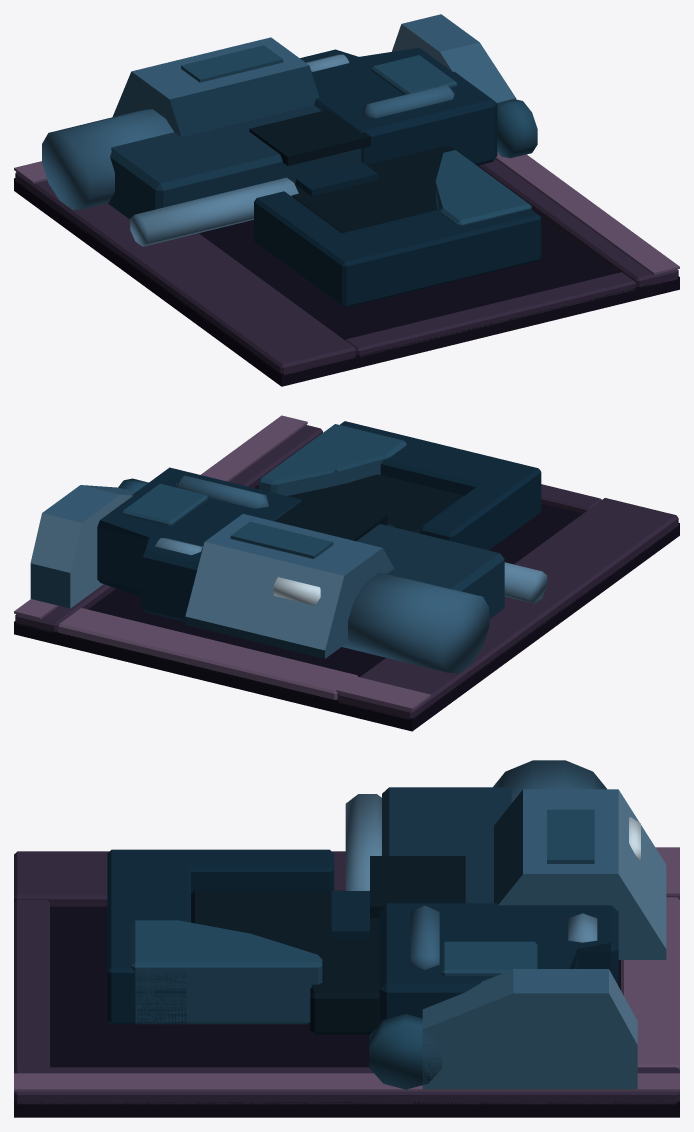
The model's file is newshc-241.glb.
The picture shows the model from 3 angles, top to bottom: view 1: azimuth 30°, elevation 25°; view 2: azimuth 150°, elevation 25°; view 3: azimuth 270°, elevation 25°; orthographic projection. The views are drawn at different scales.
Visible parts, largest first — view 1: newshc-241; view 2: newshc-241; view 3: newshc-241.
Boxes of the visible parts, x1,y1,x2,y2 form: newshc-241: [14, 14, 679, 386]; newshc-241: [14, 415, 679, 731]; newshc-241: [14, 760, 679, 1117].
Size of the model in its own units: 2 by 0.565 by 2.32.
